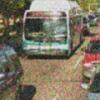buses: (18, 0, 84, 59)
